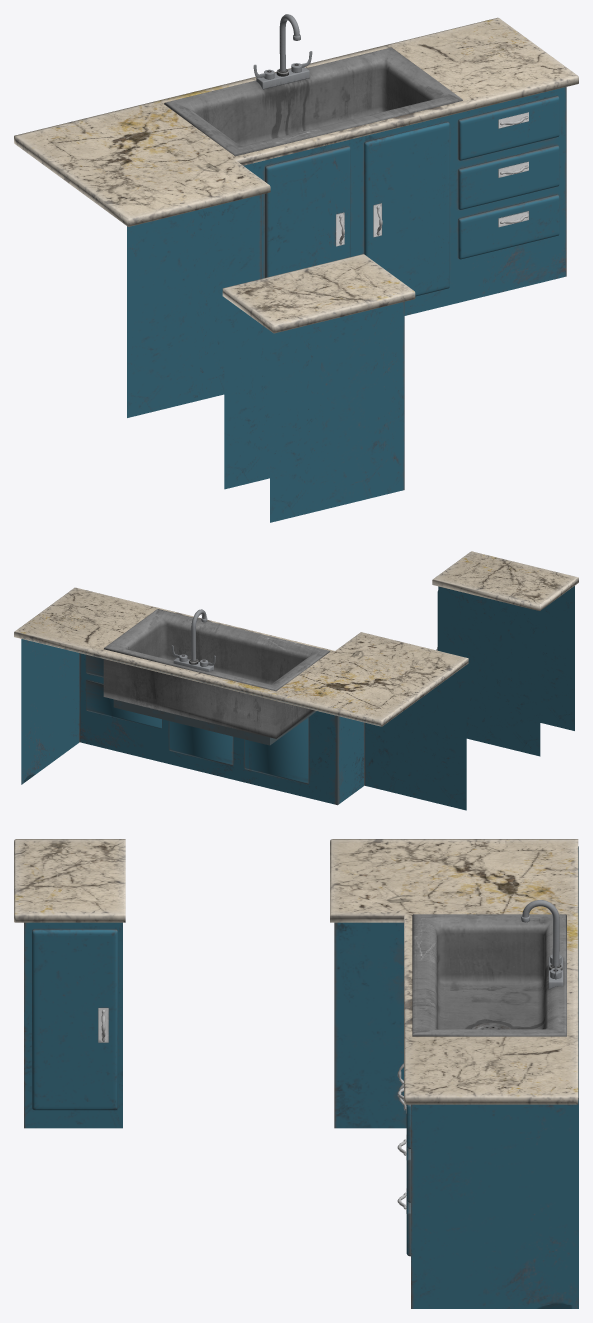
The picture shows the model from 3 angles, top to bottom: view 1: azimuth 30°, elevation 25°; view 2: azimuth 150°, elevation 25°; view 3: azimuth 270°, elevation 25°; orthographic projection. The views are drawn at different scales.
Parts seen in each view (by area): view 1: Cylinder; view 2: Cylinder; view 3: Cylinder.
Boxes of the visible parts, x1,y1,x2,y2 form: Cylinder: (14, 14, 578, 522); Cylinder: (14, 551, 578, 810); Cylinder: (14, 839, 578, 1308).
Bounding box in the file's own units: 2.35 × 1.25 × 2.18.
1 material, 1 textured.
